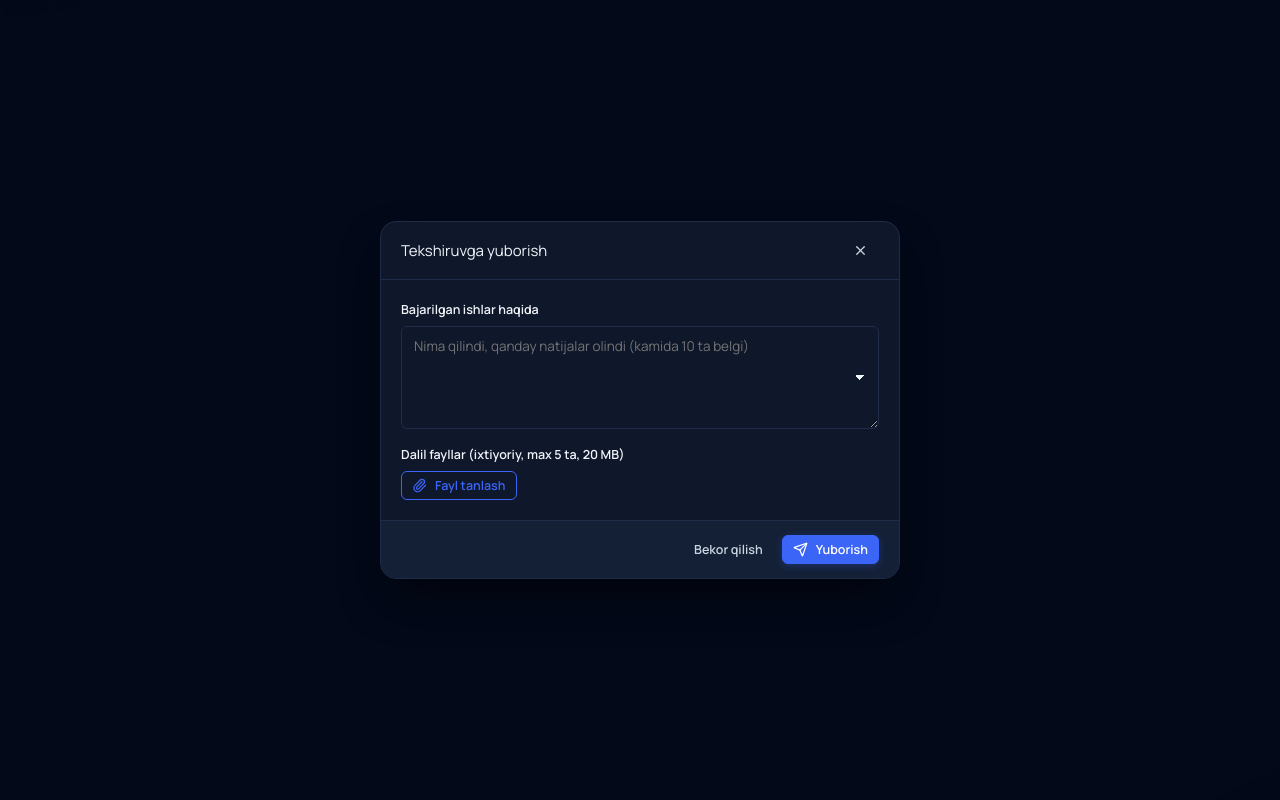
SubmitForReviewModal › shows error when comment is shorter than 10 chars
The image size is (1280, 800).
Type "qisqa" into the text box labelled "Bajarilgan ishlar haqida" at (640, 378), box [401,326,879,429]
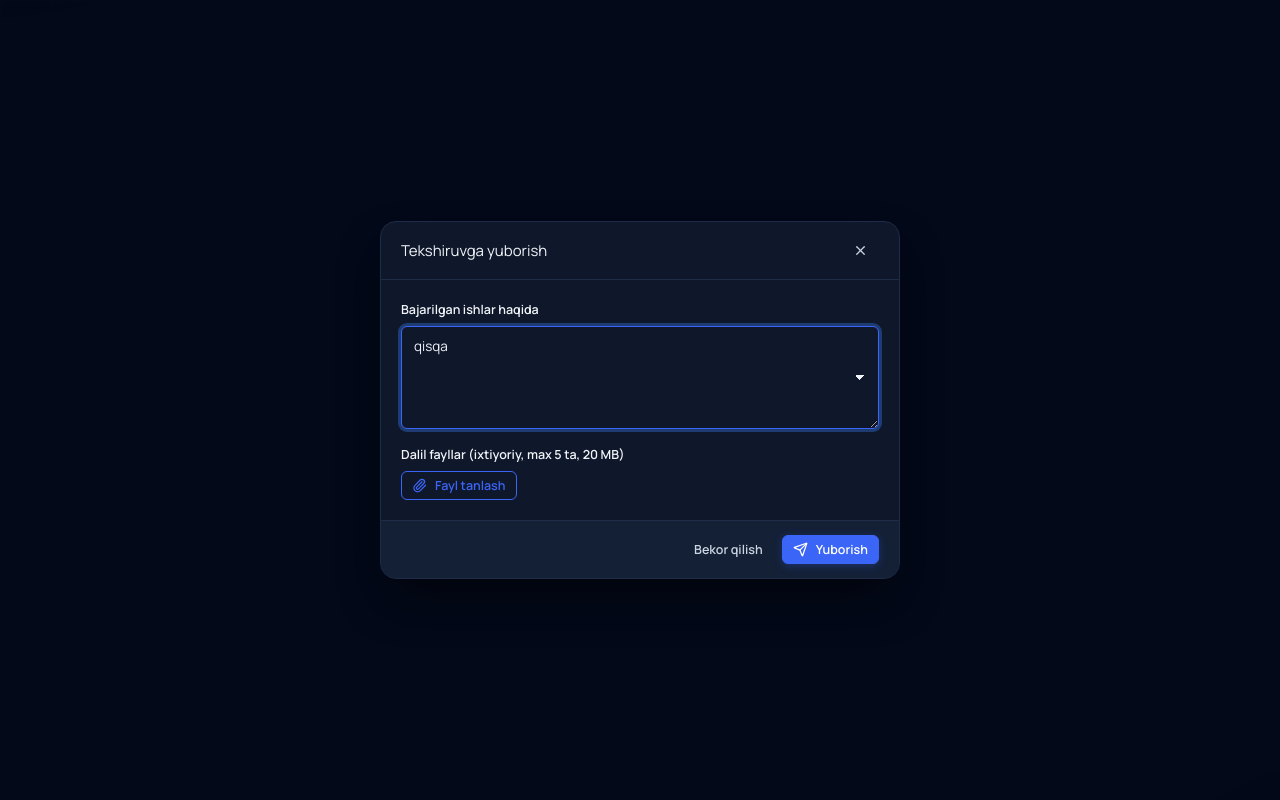
Click the button "Yuborish" at (830, 549), box [782,535,879,564]
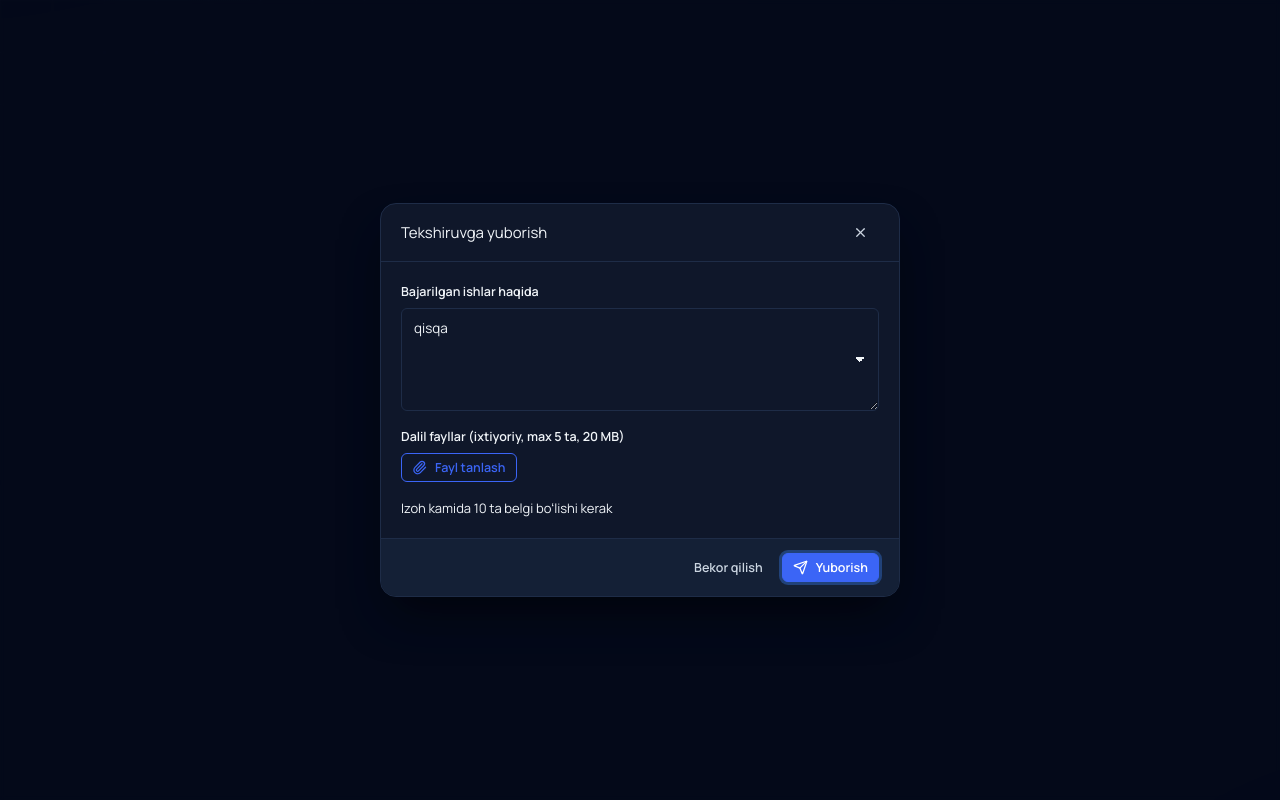
Check: the text "Izoh kamida 10 ta belgi boʻlishi kerak" is shown, box [401,499,612,517]
